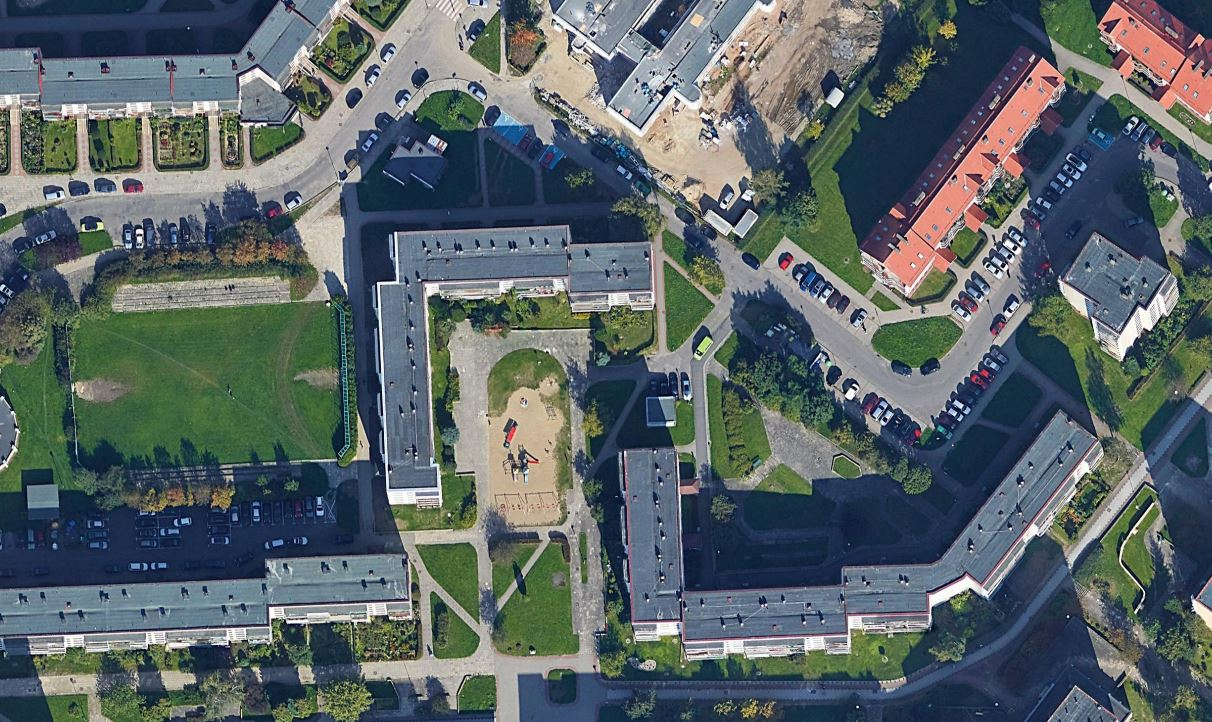block of flats: (597, 408, 1111, 668), (362, 211, 663, 520), (1, 545, 426, 683), (852, 43, 1074, 304), (1, 1, 361, 137), (537, 1, 785, 150), (1050, 222, 1182, 371), (1084, 1, 1209, 129)
